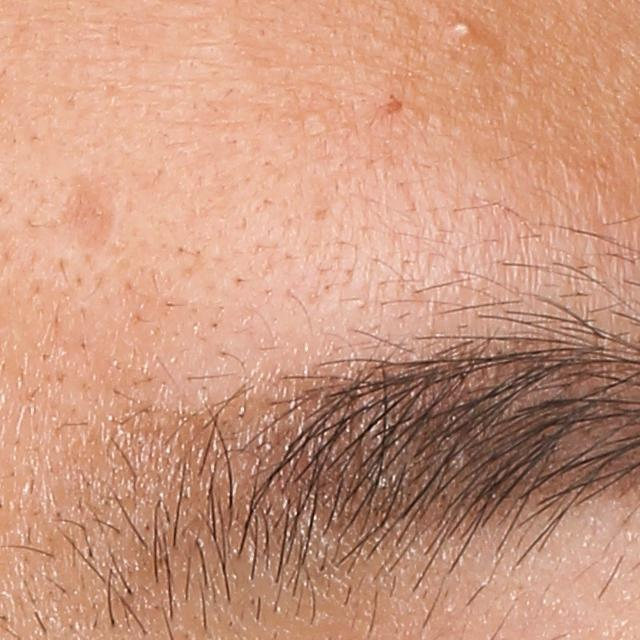atrophic_scar: (35, 173, 113, 262)
pustule: (448, 19, 480, 42)
